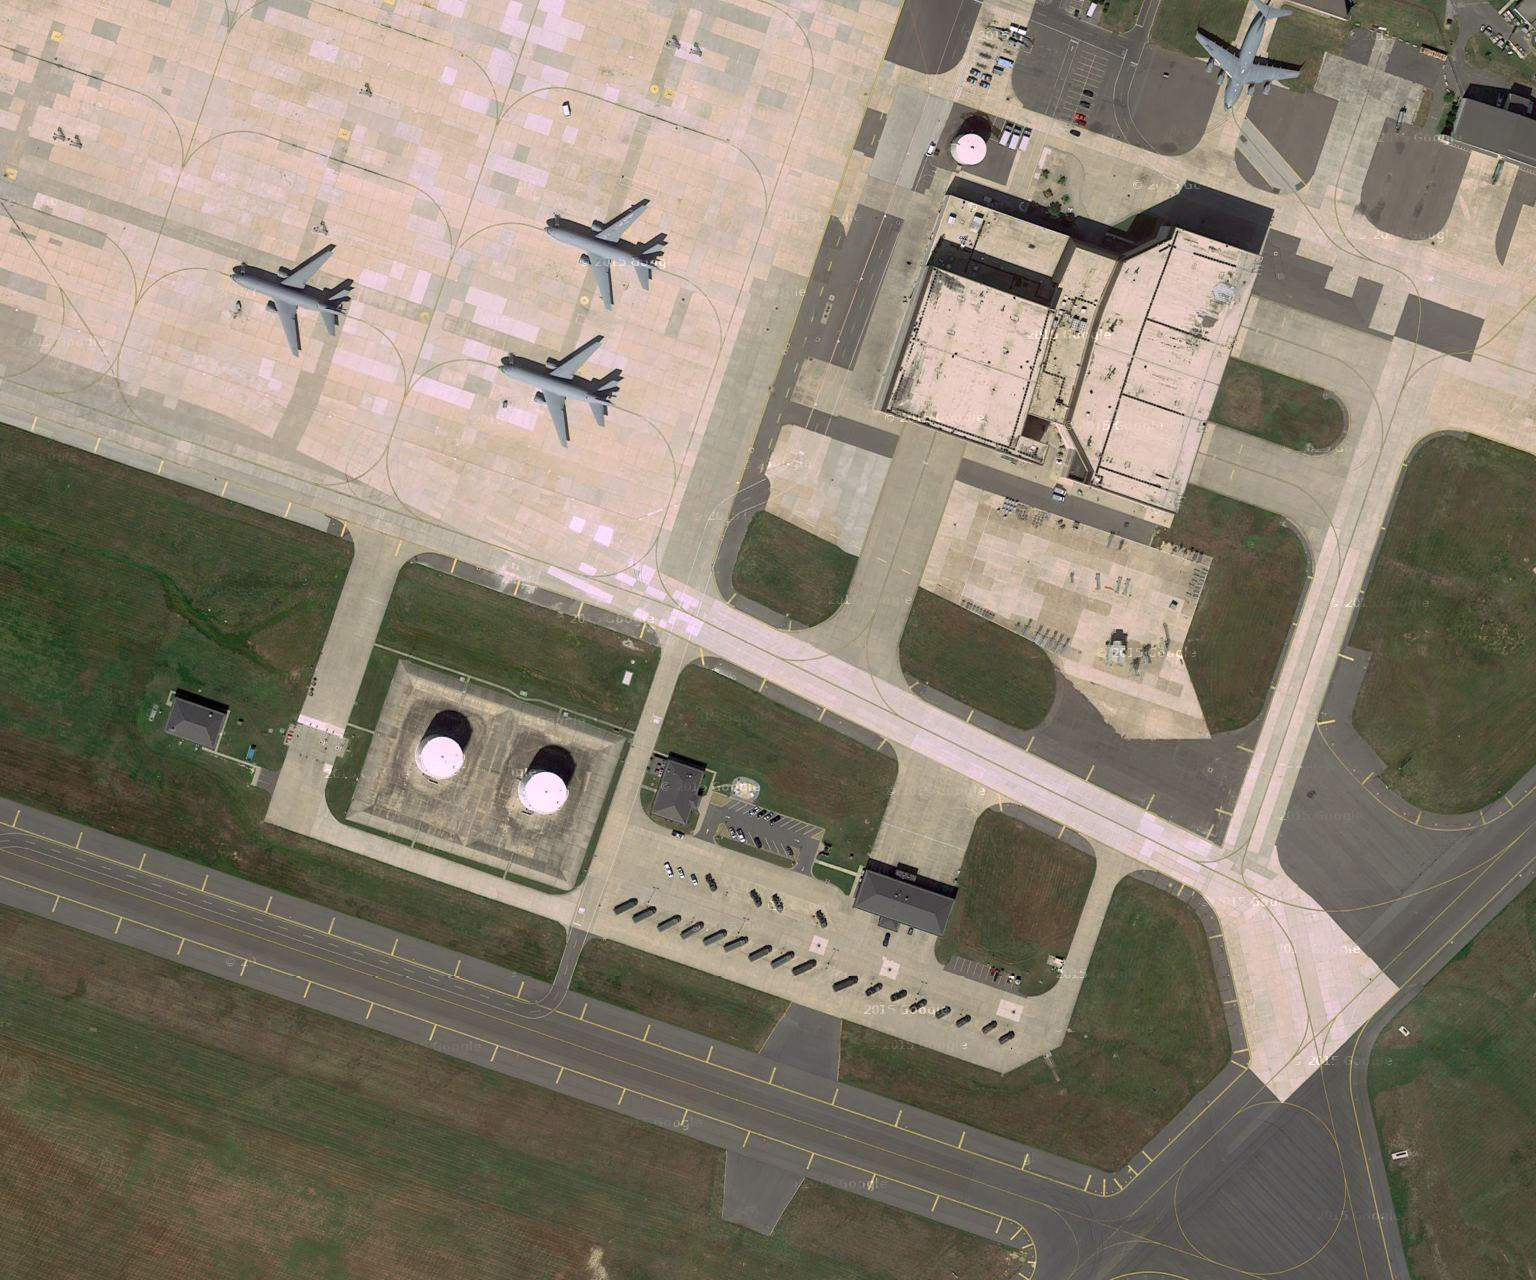C-17: (1184, 3, 1311, 117)
KC-10: (532, 191, 676, 311), (487, 331, 626, 445), (223, 239, 361, 352)
